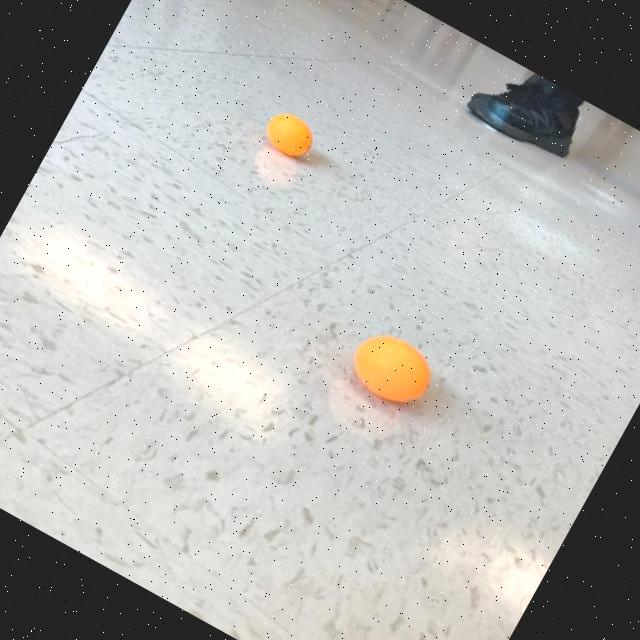ping-pong-ball: (336, 318, 448, 420), (254, 102, 327, 167)
